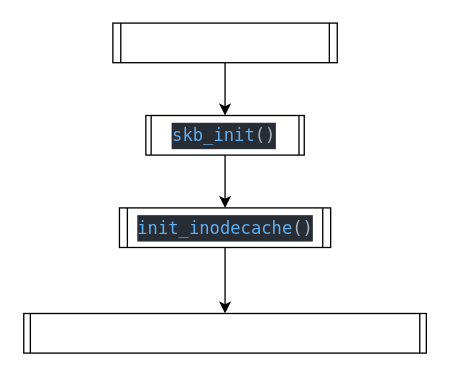
Some shapes in this 449 by 376 pixel diagram are drawn without their labels. The shapes that lost their labels are listed below. From the top down, each one's box as (x1, y1, x2, y2) in pixels, then its label:
(112, 22, 337, 63): net_sysctl_init ()
(22, 312, 426, 353): register_filesystem ( & sock_fs_type)
